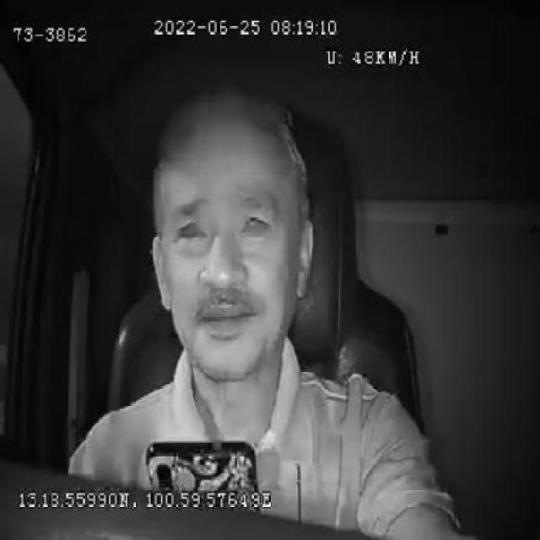phone: (145, 436, 260, 488)
